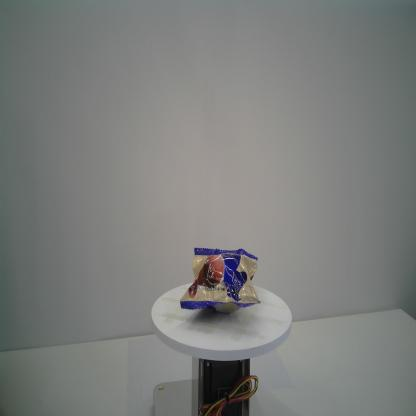Dessert: (178, 245, 264, 319)
